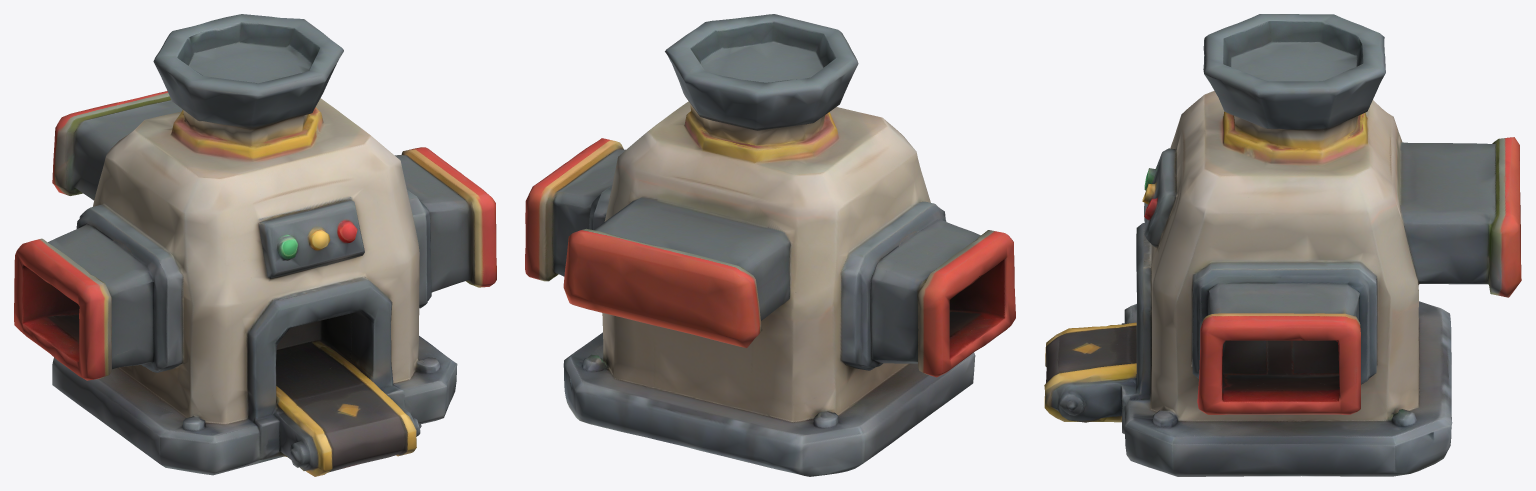
Rendered from Meshy_AI_Combined_Machine_0422174042_texture.fbx.
3 renders of one model, left to right at view 1: azimuth 30°, elevation 25°; view 2: azimuth 150°, elevation 25°; view 3: azimuth 270°, elevation 25°, orthographic. The views are drawn at different scales.
Visible parts, largest first — view 1: Mesh_0; view 2: Mesh_0; view 3: Mesh_0.
Boxes of the visible parts, bbox=[...] form: Mesh_0: bbox=[14, 14, 496, 476]; Mesh_0: bbox=[525, 14, 1015, 476]; Mesh_0: bbox=[1044, 14, 1521, 476].
Bounding box in the file's own units: 200 × 159 × 193.
1 material, 1 textured.
